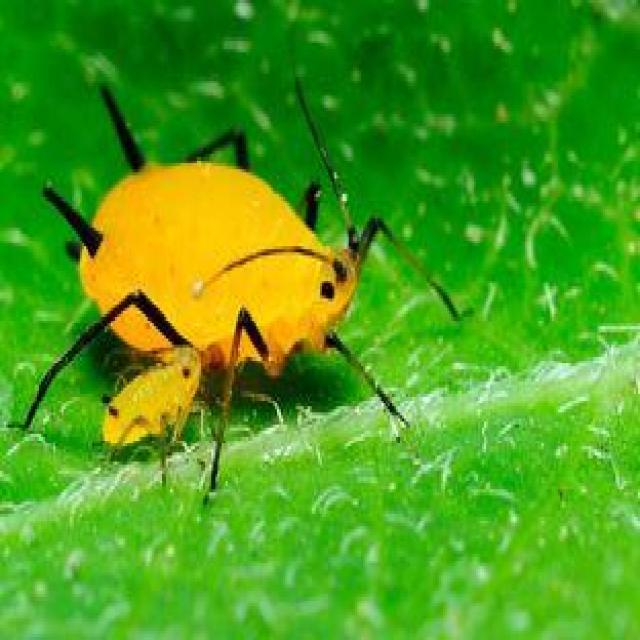Aphids: (30, 81, 475, 499)
